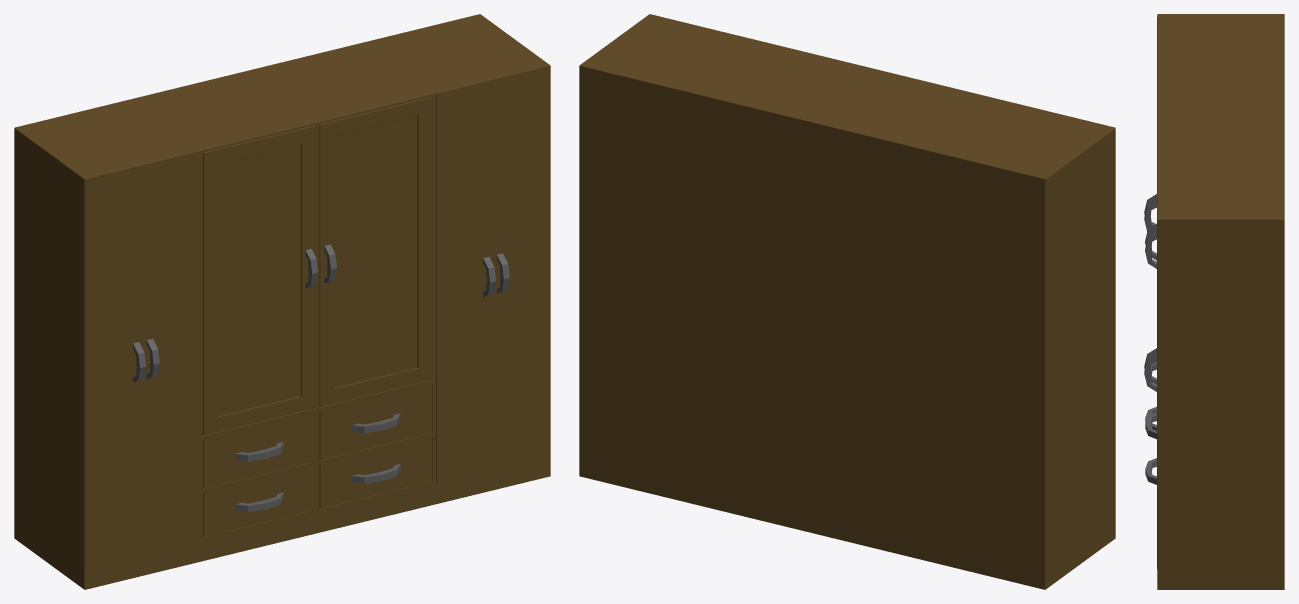
File: LargeWardrobe1.glb
3 renders of one model, left to right at view 1: azimuth 30°, elevation 25°; view 2: azimuth 150°, elevation 25°; view 3: azimuth 270°, elevation 25°, orthographic. The views are drawn at different scales.
Parts seen in each view (by area): view 1: LargeWardrobe1, ClosetDoorLeft2_LargeWardrobe1, ClosetDoorRight2_LargeWardrobe1, ClosetDoorRight3_LargeWardrobe1, ClosetDoorRight1_LargeWardrobe1, ClosetDoorLeft1_LargeWardrobe1, ClosetDoorLeft3_LargeWardrobe1, Drawer1_LargeWardrobe1, Drawer3_LargeWardrobe1, Drawer2_LargeWardrobe1, Drawer4_LargeWardrobe1; view 2: LargeWardrobe1; view 3: LargeWardrobe1, ClosetDoorLeft3_LargeWardrobe1, ClosetDoorLeft2_LargeWardrobe1, ClosetDoorLeft1_LargeWardrobe1, Drawer3_LargeWardrobe1, Drawer4_LargeWardrobe1.
Boxes of the visible parts, x1=… form: LargeWardrobe1: x1=14, y1=14, x2=550, y2=589; ClosetDoorLeft2_LargeWardrobe1: x1=319, y1=96, x2=432, y2=406; ClosetDoorRight2_LargeWardrobe1: x1=203, y1=125, x2=318, y2=435; ClosetDoorRight3_LargeWardrobe1: x1=436, y1=81, x2=496, y2=482; ClosetDoorRight1_LargeWardrobe1: x1=86, y1=167, x2=145, y2=567; ClosetDoorLeft1_LargeWardrobe1: x1=143, y1=153, x2=199, y2=553; ClosetDoorLeft3_LargeWardrobe1: x1=493, y1=68, x2=549, y2=468; Drawer1_LargeWardrobe1: x1=203, y1=412, x2=315, y2=488; Drawer3_LargeWardrobe1: x1=319, y1=384, x2=431, y2=460; Drawer2_LargeWardrobe1: x1=203, y1=466, x2=315, y2=536; Drawer4_LargeWardrobe1: x1=319, y1=437, x2=431, y2=508; LargeWardrobe1: x1=579, y1=14, x2=1115, y2=589; LargeWardrobe1: x1=1157, y1=14, x2=1284, y2=589; ClosetDoorLeft3_LargeWardrobe1: x1=1144, y1=195, x2=1157, y2=568; ClosetDoorLeft2_LargeWardrobe1: x1=1145, y1=120, x2=1157, y2=268; ClosetDoorLeft1_LargeWardrobe1: x1=1144, y1=41, x2=1157, y2=234; Drawer3_LargeWardrobe1: x1=1145, y1=412, x2=1156, y2=439; Drawer4_LargeWardrobe1: x1=1145, y1=458, x2=1156, y2=484.
Size of the model in its own units: 2.5 by 2.1 by 0.7201.
